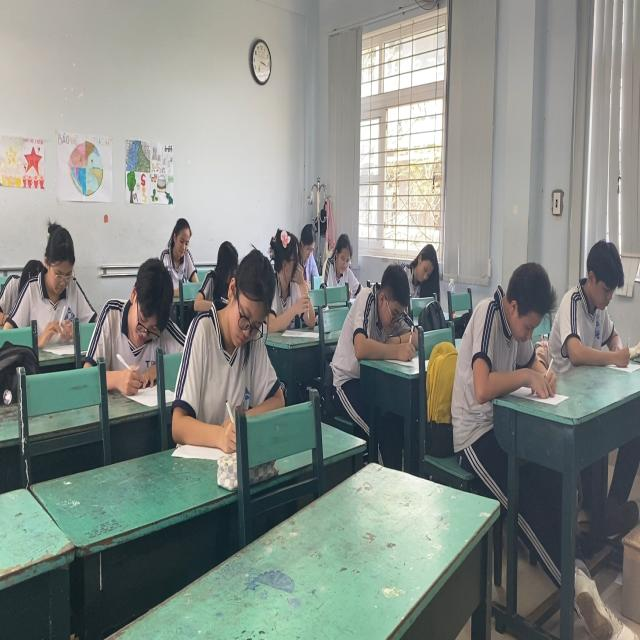cheating: (267, 226, 323, 336)
not_cheating: (197, 229, 271, 433), (473, 260, 558, 398), (22, 212, 96, 340), (103, 264, 181, 384), (560, 240, 630, 371), (341, 260, 418, 350), (156, 212, 199, 288), (401, 222, 442, 301), (321, 226, 361, 301)
